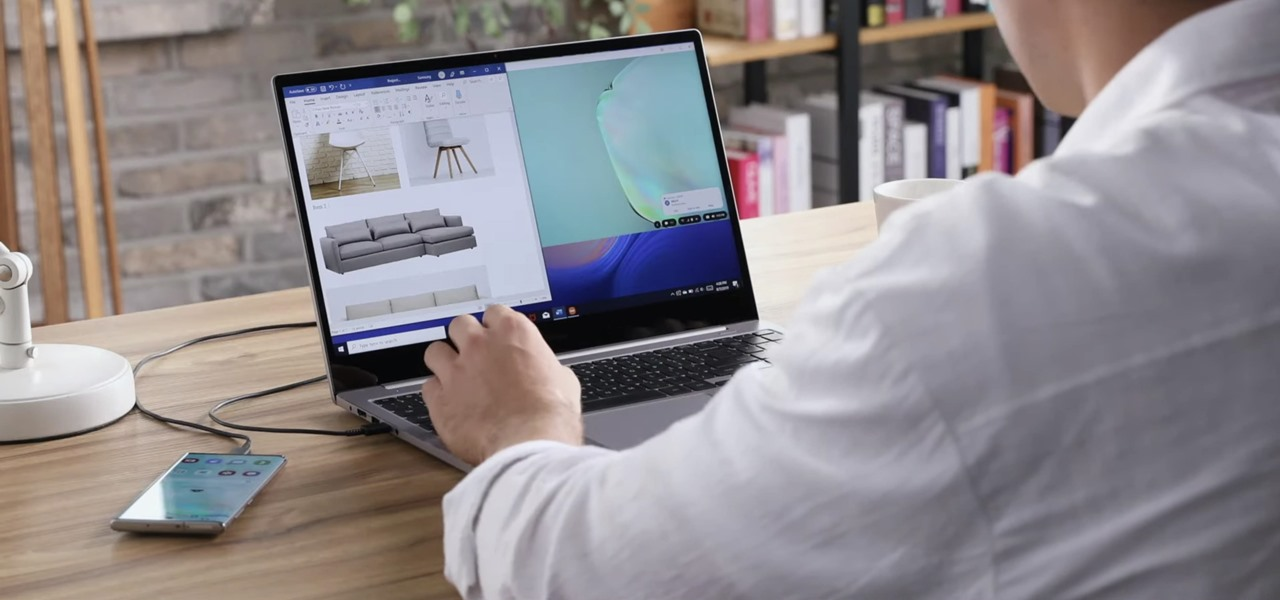Cell Phone: (115, 451, 288, 539)
